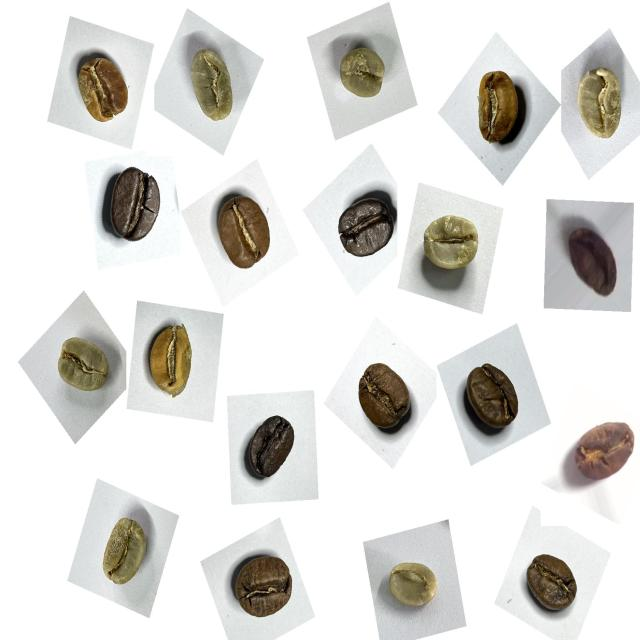bad: (556, 212, 627, 310), (566, 411, 637, 493)
dark: (97, 158, 174, 255), (328, 181, 403, 270), (234, 403, 304, 491)
green: (176, 38, 248, 135), (566, 59, 636, 154), (416, 203, 492, 289), (89, 507, 160, 597), (46, 326, 119, 408), (328, 35, 396, 115), (379, 550, 448, 625)
light: (462, 59, 533, 157), (66, 44, 136, 136), (142, 315, 208, 411)
medium: (207, 187, 284, 282), (225, 544, 305, 634), (456, 353, 532, 443), (347, 353, 421, 443), (518, 545, 587, 626)
